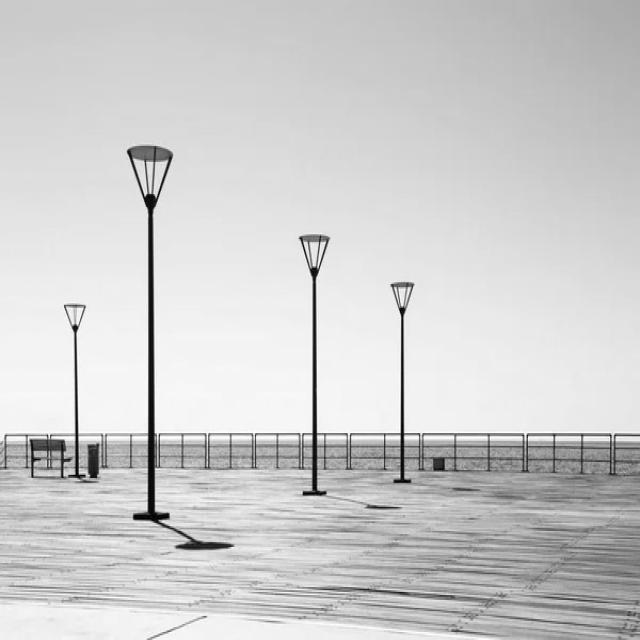Pole: (127, 144, 173, 522), (300, 234, 330, 497), (391, 282, 415, 484), (64, 305, 86, 479)
